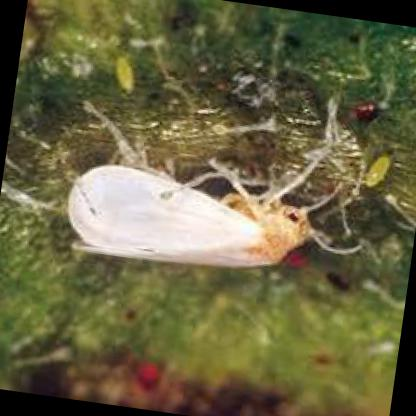whitefly: (65, 166, 309, 269)
